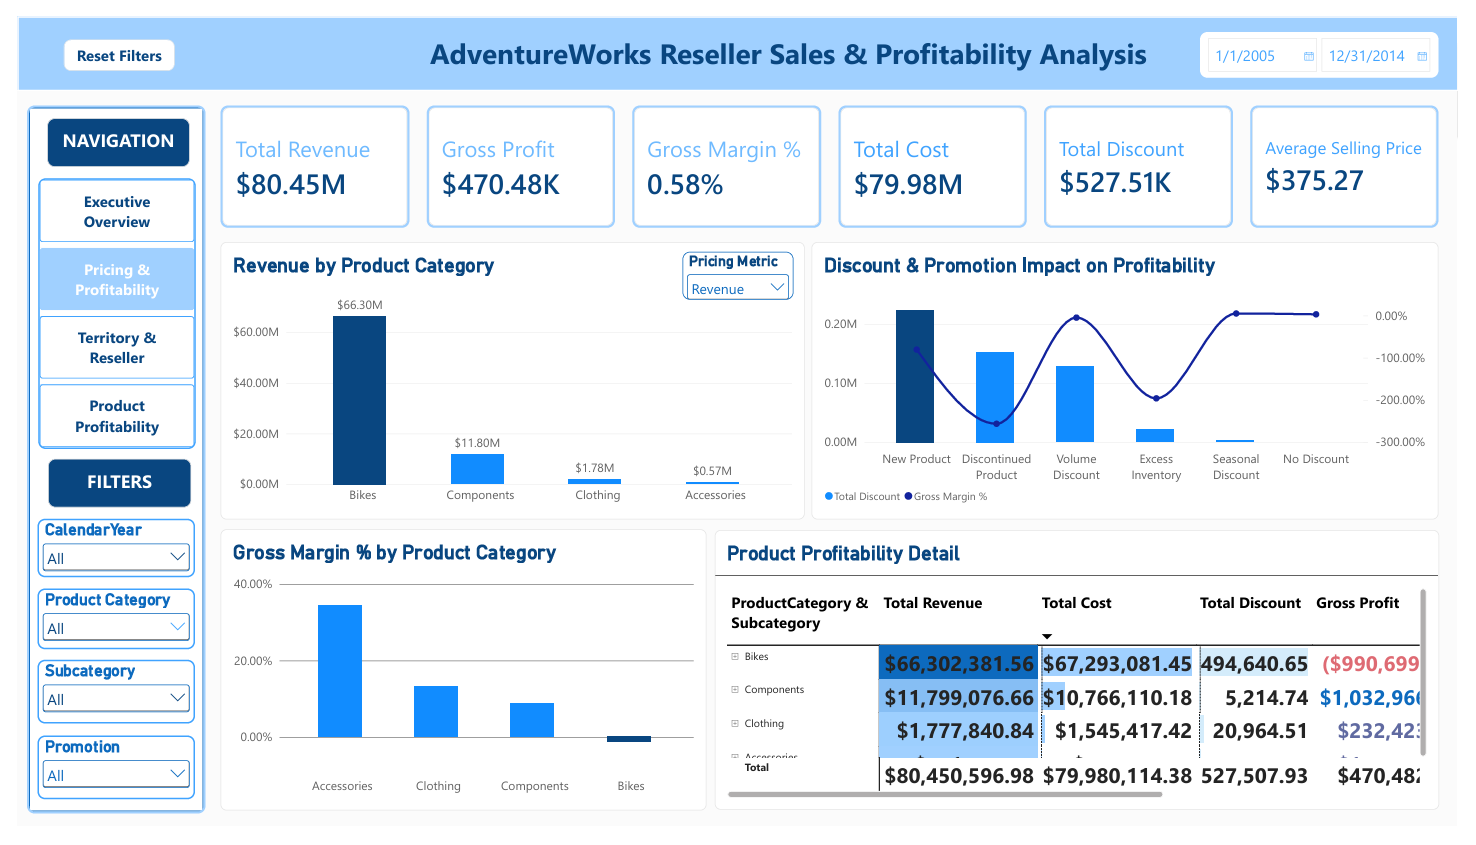

The page's visual inventory and layout, read from the dashboard file:
{"tool":"powerbi","page":{"name":"Pricing & Profitability","canvas":[1920,1080],"ordinal":1},"visuals":[{"type":"cardVisual","fields":{"Data":["_Measures.Total Revenue"]},"box":[270.4,118.1,251.6,162.6],"z":0},{"type":"shape","box":[0,0,1920,98],"z":1000},{"type":"shape","box":[11.7,118.1,237.8,943.5],"z":2000},{"type":"textbox","box":[478.6,14.3,1096.9,70.3],"z":3000},{"type":"cardVisual","fields":{"Data":["_Measures.Gross Profit"]},"box":[544.9,118.1,251.6,162.6],"z":4000},{"type":"cardVisual","fields":{"Data":["_Measures.Gross Margin %"]},"box":[819.3,118.1,251.6,162.6],"z":5000},{"type":"cardVisual","fields":{"Data":["_Measures.Below-Cost Lines"]},"box":[1093.8,118.1,251.6,162.6],"z":6000},{"type":"cardVisual","fields":{"Data":["_Measures.Below-Cost Share %"]},"box":[1368.3,118.1,251.6,162.6],"z":7000},{"type":"cardVisual","fields":{"Data":["_Measures.Average Selling Price"]},"box":[1642.8,118.1,251.6,162.6],"z":8000},{"type":"clusteredColumnChart","title":"Gross Margin % by Product Category","fields":{"Category":["DimProductCategory.EnglishProductCategoryName"],"Y":["_Measures.Gross Margin %"]},"box":[270,683.2,647.7,375],"z":9000},{"type":"clusteredColumnChart","fields":{"Category":["DimProductCategory.EnglishProductCategoryName"],"Y":["_Measures.Total Revenue"]},"box":[270,300,778.6,369.5],"z":10000},{"type":"lineClusteredColumnComboChart","title":"2013 Road & Touring Bikes: Promotion Impact on Profitability","fields":{"Category":["DimPromotion.EnglishPromotionName"],"Y":["_Measures.Total Discount"],"Y2":["_Measures.Gross Margin %"]},"box":[1058.2,300,835.9,369.5],"z":11000},{"type":"pivotTable","title":"Product Profitability Detail","fields":{"Rows":["DimProductCategory.EnglishProductCategoryName","DimProductSubcategory.EnglishProductSubcategoryName","DimProduct.EnglishProductName"],"Values":["_Measures.Total Revenue","_Measures.Total Cost","_Measures.Total Discount","_Measures.Gross Profit","_Measures.Gross Margin %","_Measures.Average Selling Price"]},"box":[929.3,683.6,965.5,373.3],"z":12000},{"type":"textbox","box":[38.6,135,190.5,64.7],"z":13000},{"type":"textbox","box":[40.2,589.1,190.6,64.6],"z":14000},{"type":"slicer","fields":{"Values":["DimDate.FullDateAlternateKey"]},"box":[1576,20.3,318.2,61],"z":15000},{"type":"slicer","fields":{"Values":["DimDate.CalendarYear"]},"box":[25.6,669.4,210,77.2],"z":16000},{"type":"slicer","fields":{"Values":["DimProductCategory.EnglishProductCategoryName"]},"box":[25.6,762.3,210,80.3],"z":17000},{"type":"slicer","fields":{"Values":["DimProductSubcategory.EnglishProductSubcategoryName"]},"box":[25.6,856.8,210,85.1],"z":18000},{"type":"pageNavigator","box":[27.4,215.3,210,361],"z":19000},{"type":"slicer","fields":{"Values":["DimPromotion.EnglishPromotionName"]},"box":[25.6,957.6,210,85.1],"z":20000},{"type":"slicer","fields":{"Values":["Pricing Metric.Pricing Metric"]},"box":[885.7,313,148.7,64.2],"z":21000},{"type":"actionButton","box":[60.6,30.3,148,42],"z":22000}]}

Visuals, with their boxes in screenshot pixels (x1, y1, x2, y2), scaled from the page's 1920x1080 canvas onto the 1476x845 screenshot:
cardVisual - _Measures.Total Revenue: bbox(208, 92, 401, 220)
shape: bbox(0, 0, 1475, 77)
shape: bbox(9, 92, 192, 831)
textbox: bbox(368, 11, 1211, 66)
cardVisual - _Measures.Gross Profit: bbox(419, 92, 612, 220)
cardVisual - _Measures.Gross Margin %: bbox(630, 92, 823, 220)
cardVisual - _Measures.Below-Cost Lines: bbox(841, 92, 1034, 220)
cardVisual - _Measures.Below-Cost Share %: bbox(1052, 92, 1245, 220)
cardVisual - _Measures.Average Selling Price: bbox(1263, 92, 1456, 220)
"Gross Margin % by Product Category" clusteredColumnChart: bbox(208, 535, 705, 828)
clusteredColumnChart - DimProductCategory.EnglishProductCategoryName x _Measures.Total Revenue: bbox(208, 235, 806, 524)
"2013 Road & Touring Bikes: Promotion Impact on Profitability" lineClusteredColumnComboChart: bbox(813, 235, 1456, 524)
"Product Profitability Detail" pivotTable: bbox(714, 535, 1457, 827)
textbox: bbox(30, 106, 176, 156)
textbox: bbox(31, 461, 177, 511)
slicer - DimDate.FullDateAlternateKey: bbox(1212, 16, 1456, 64)
slicer - DimDate.CalendarYear: bbox(20, 524, 181, 584)
slicer - DimProductCategory.EnglishProductCategoryName: bbox(20, 596, 181, 659)
slicer - DimProductSubcategory.EnglishProductSubcategoryName: bbox(20, 670, 181, 737)
pageNavigator: bbox(21, 168, 183, 451)
slicer - DimPromotion.EnglishPromotionName: bbox(20, 749, 181, 816)
slicer - Pricing Metric.Pricing Metric: bbox(681, 245, 795, 295)
actionButton: bbox(47, 24, 160, 57)
